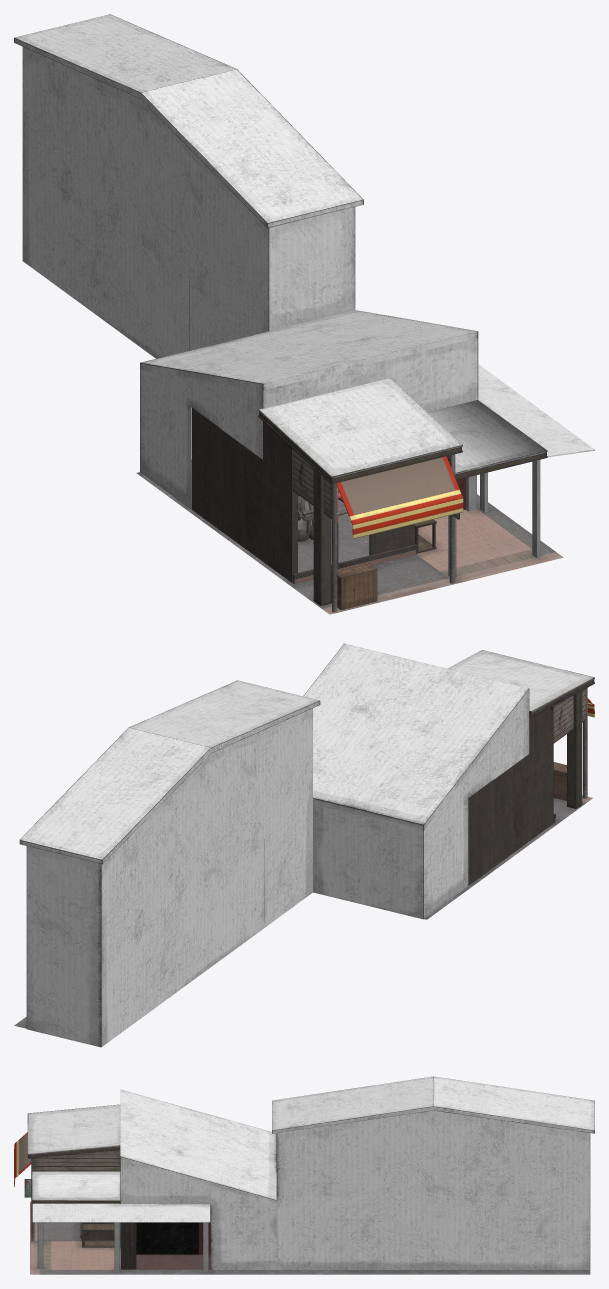
Rendered from qiaonan-quanli.glb.
3 views of the same model, one above another, from view 1: azimuth 30°, elevation 25°; view 2: azimuth 150°, elevation 25°; view 3: azimuth 270°, elevation 25° (orthographic). The views are drawn at different scales.
Visible parts, largest first — view 1: IronQuanLi; view 2: IronQuanLi; view 3: IronQuanLi.
Boxes of the visible parts, bbox=[...] form: IronQuanLi: bbox=[14, 14, 594, 614]; IronQuanLi: bbox=[14, 643, 594, 1047]; IronQuanLi: bbox=[14, 1076, 594, 1274].
Bounding box in the file's own units: 10.77 × 10.04 × 31.84.
3 materials, 3 textured.
